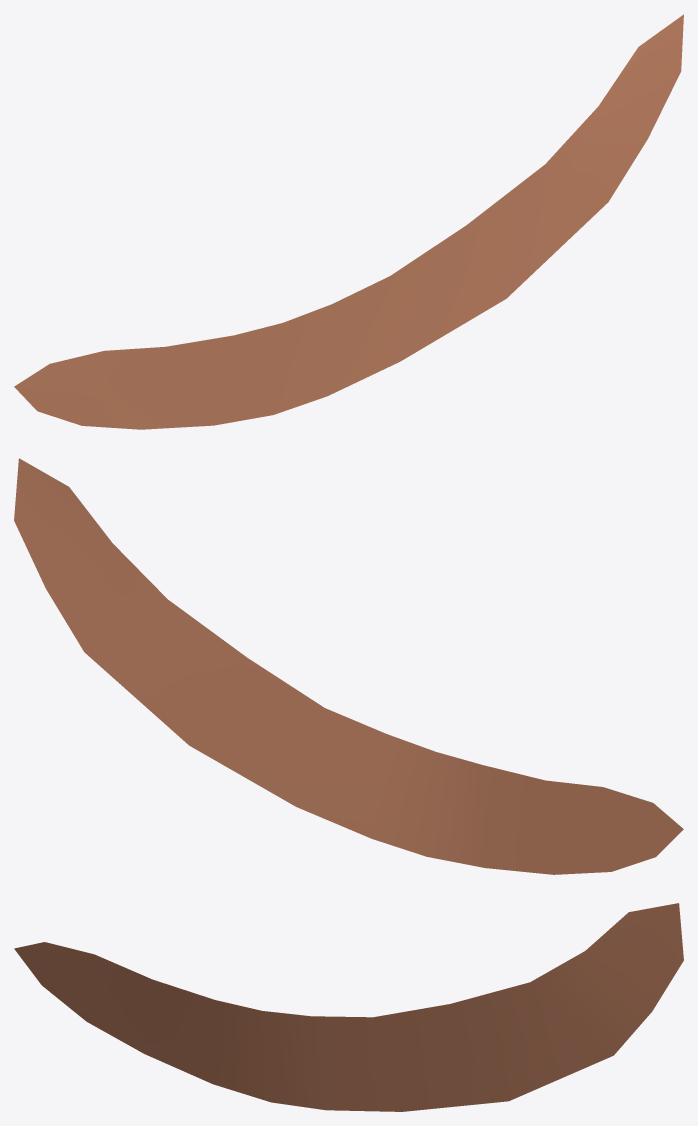
Rendered from Mouth_White_3.fbx.
3 views of the same model, one above another, from view 1: azimuth 30°, elevation 25°; view 2: azimuth 150°, elevation 25°; view 3: azimuth 330°, elevation 25° (orthographic).
Visible parts, largest first — view 1: Mouth_White_3; view 2: Mouth_White_3; view 3: Mouth_White_3.
Part boxes in pixels (bbox=[...]): Mouth_White_3: bbox=[14, 14, 683, 429]; Mouth_White_3: bbox=[14, 458, 683, 874]; Mouth_White_3: bbox=[14, 903, 683, 1111].
Bounding box in the file's own units: 7.03 × 3.01 × 0.2537.
